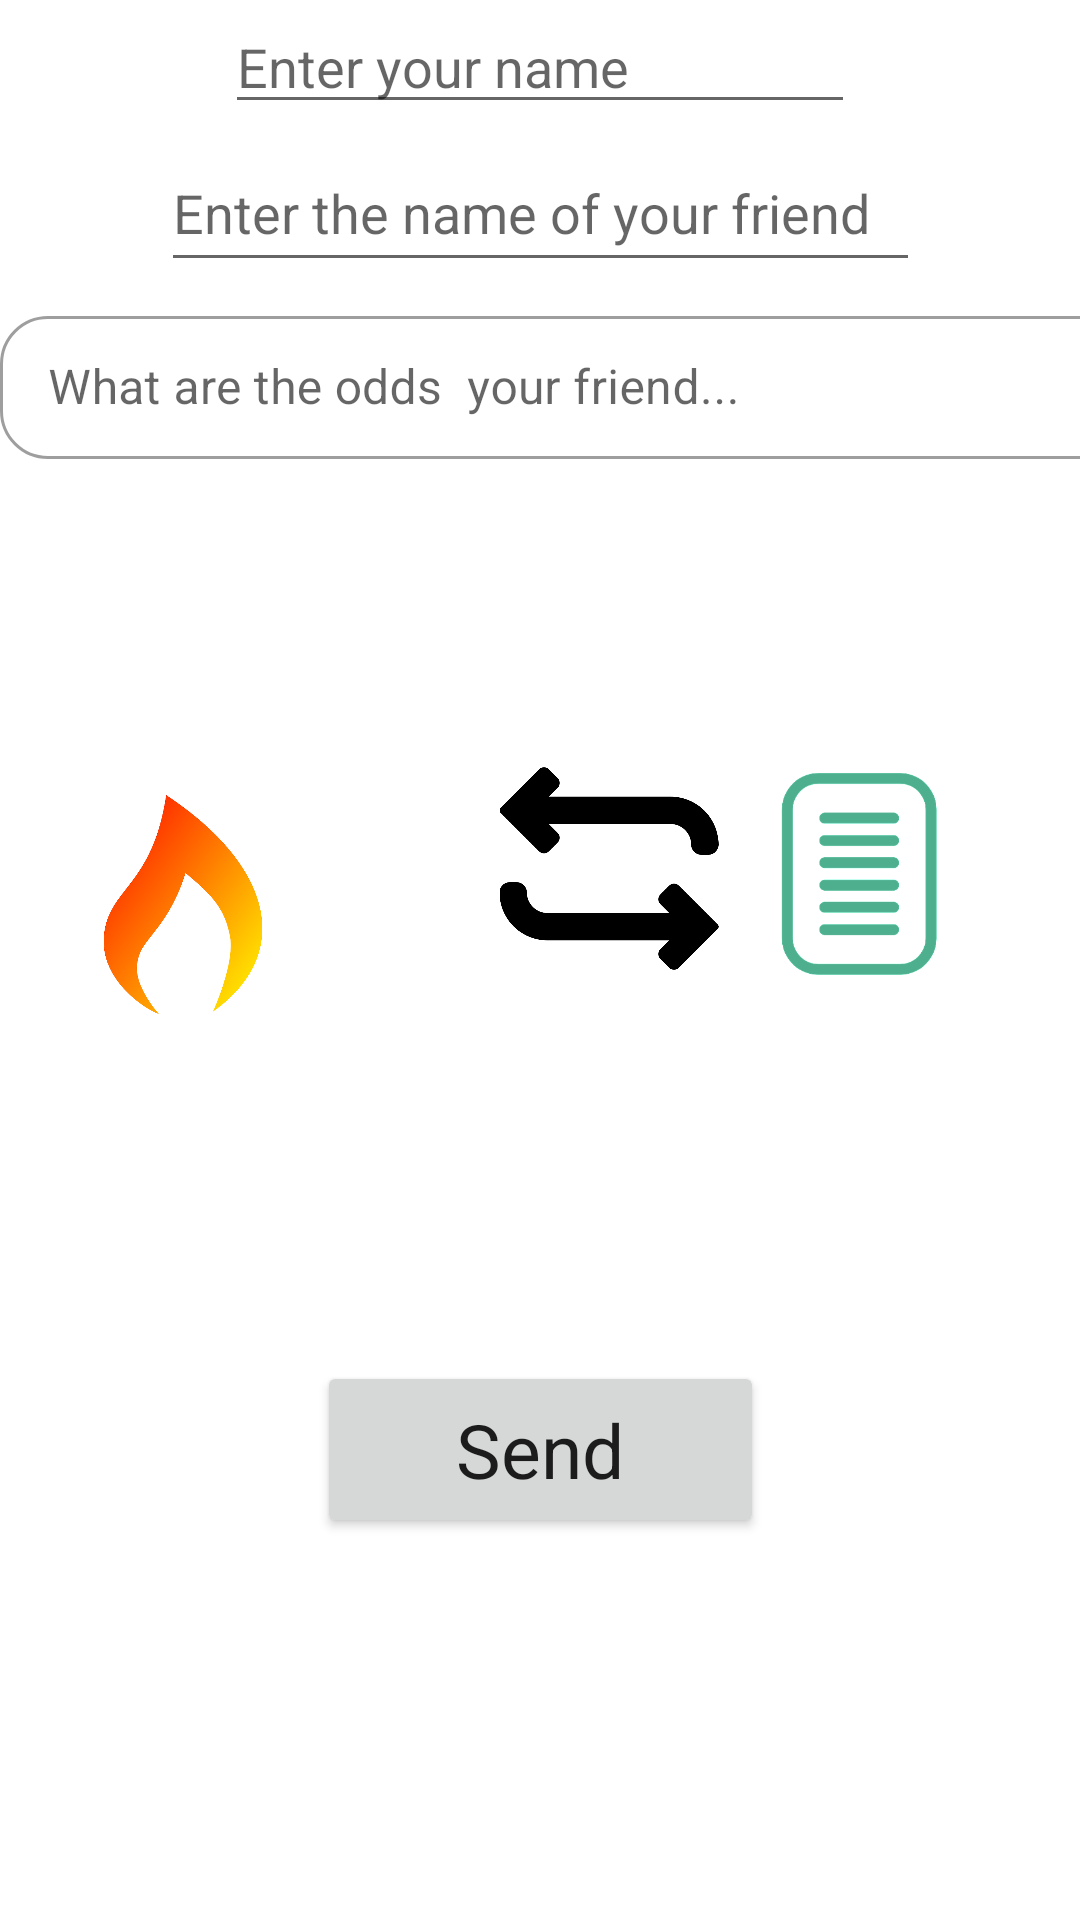

Screen size 1080w x 1920h. Icon name, then its center in pixels as (x,y):
fire: (183,904)
list: (859,874)
swap: (609,868)
